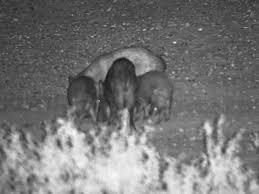javelina: (59, 45, 179, 113), (97, 57, 143, 135), (61, 65, 105, 130), (127, 70, 176, 127)
